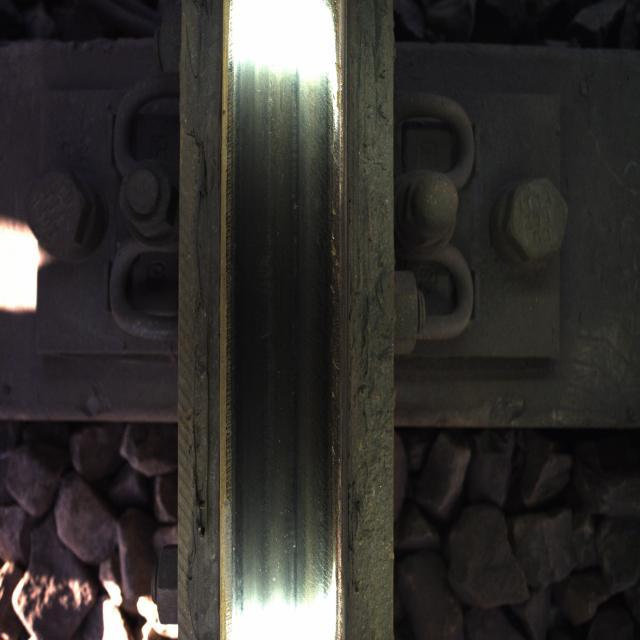normal: (233, 68, 337, 640)
